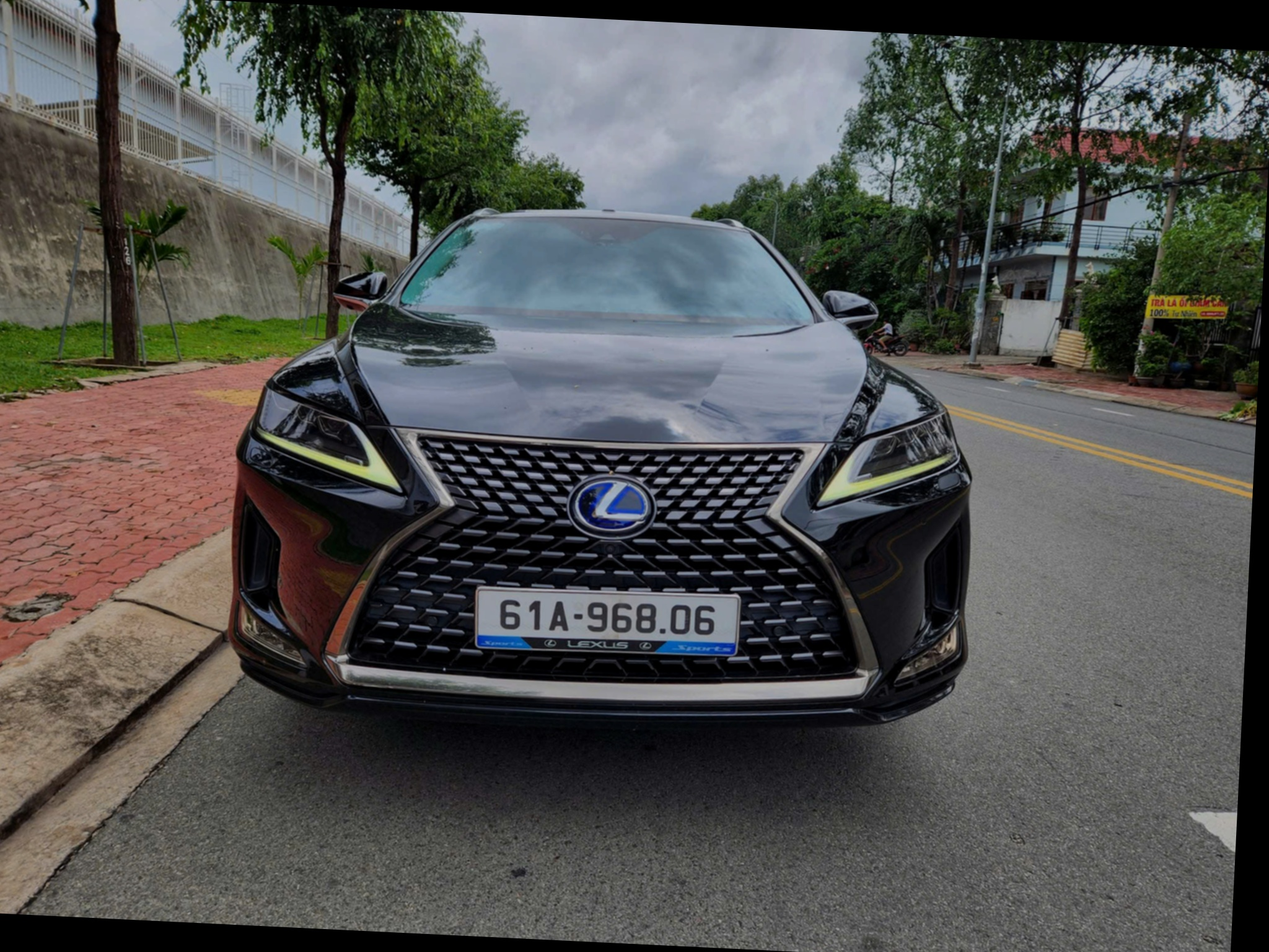Bien-so: (550, 587, 809, 660)
